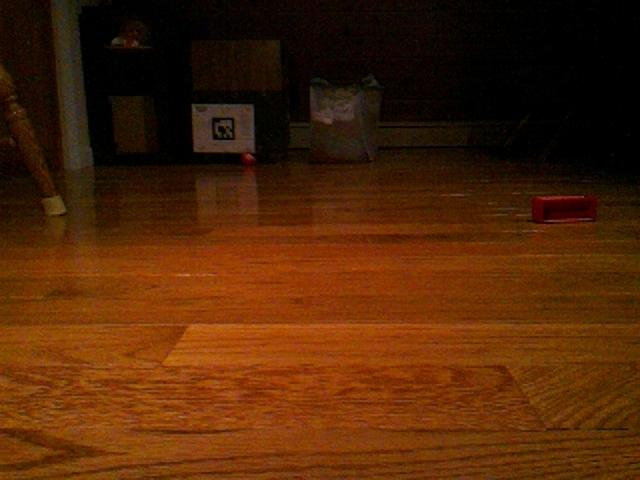red: (530, 193, 599, 225)
